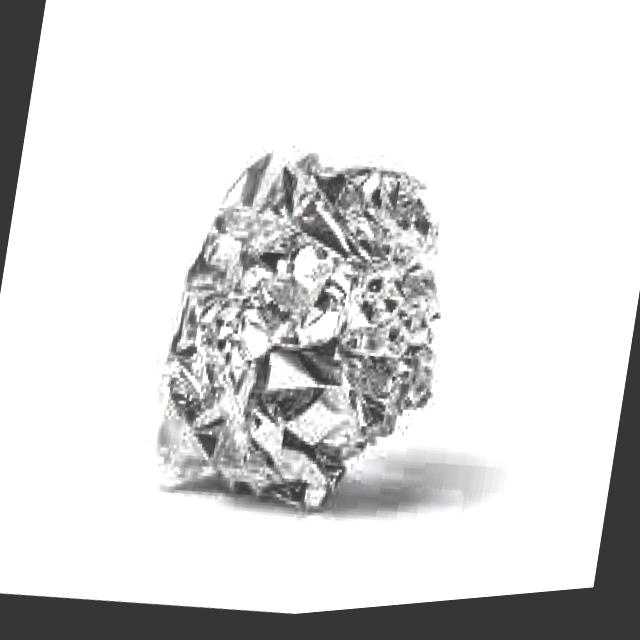Foil: (124, 124, 489, 556)
